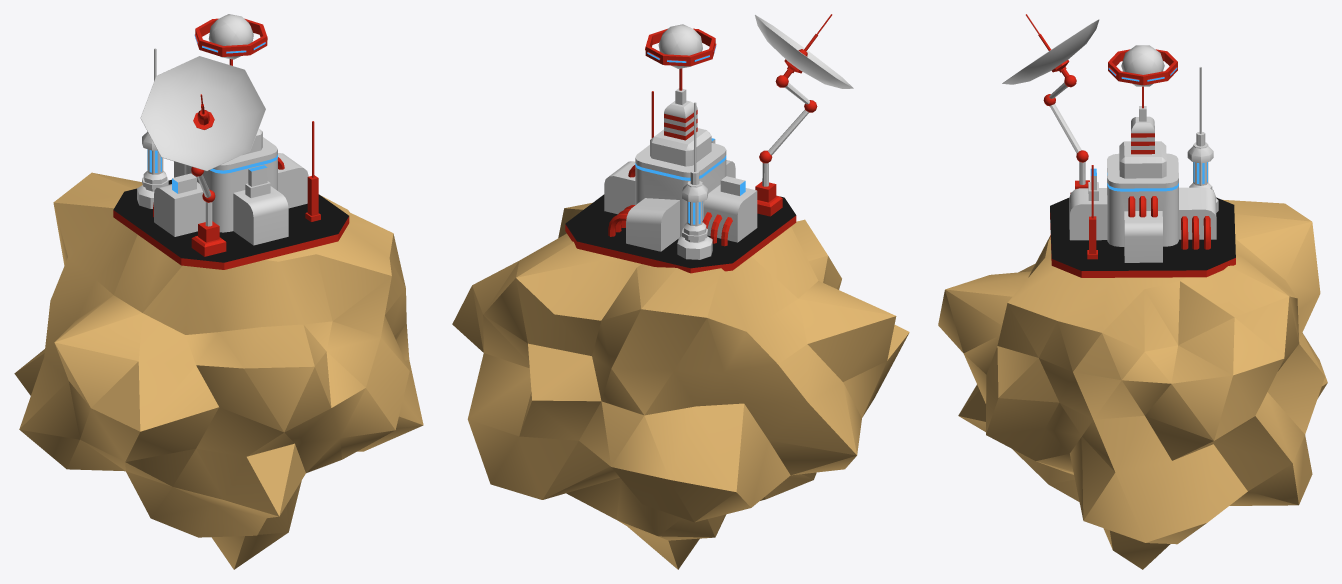
The model's file is SpaceBase.fbx.
3 views of the same model, side by side, from view 1: azimuth 30°, elevation 25°; view 2: azimuth 150°, elevation 25°; view 3: azimuth 270°, elevation 25° (orthographic). The views are drawn at different scales.
Visible parts, largest first — view 1: Asteroid Large, Saucer, Building, Platform, Ring, Relay, Ring 2, Ball, Holder, Antenna, Lights; view 2: Asteroid Large, Building, Platform, Tower, Relay, Saucer, Ring, Ring 2, Ball, Pipes, Lights, Holder (+2 smaller); view 3: Asteroid Large, Building, Platform, Tower, Saucer, Ring, Pipes, Relay, Ring 2, Ball, Arm, Lights (+1 smaller).
Part boxes in pixels (<box>): Asteroid Large: <box>14,172,423,569</box>; Saucer: <box>140,56,265,170</box>; Building: <box>154,137,308,245</box>; Platform: <box>113,179,348,262</box>; Ring: <box>113,210,349,269</box>; Relay: <box>137,48,168,208</box>; Ring 2: <box>195,18,267,56</box>; Ball: <box>208,14,253,59</box>; Holder: <box>191,221,226,256</box>; Antenna: <box>305,121,320,221</box>; Lights: <box>147,34,277,193</box>; Asteroid Large: <box>452,202,909,569</box>; Building: <box>604,139,757,251</box>; Platform: <box>565,194,795,268</box>; Tower: <box>650,88,711,166</box>; Relay: <box>677,102,712,259</box>; Saucer: <box>755,15,853,88</box>; Ring: <box>565,215,796,273</box>; Ring 2: <box>645,28,716,66</box>; Ball: <box>658,24,702,68</box>; Pipes: <box>608,165,732,246</box>; Lights: <box>635,45,745,224</box>; Holder: <box>755,181,782,216</box>; Asteroid Large: <box>938,199,1327,569</box>; Building: <box>1069,153,1216,262</box>; Platform: <box>1050,197,1235,270</box>; Tower: <box>1119,106,1166,178</box>; Saucer: <box>1002,19,1099,84</box>; Ring: <box>1050,213,1235,277</box>; Pipes: <box>1128,196,1210,249</box>; Relay: <box>1187,67,1218,212</box>; Ring 2: <box>1108,49,1177,85</box>; Ball: <box>1121,45,1164,86</box>; Arm: <box>1049,82,1085,184</box>; Lights: <box>1090,67,1207,191</box>.
Size of the model in its own units: 120 by 109 by 161.
